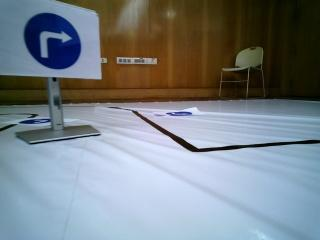right: (0, 0, 106, 81)
